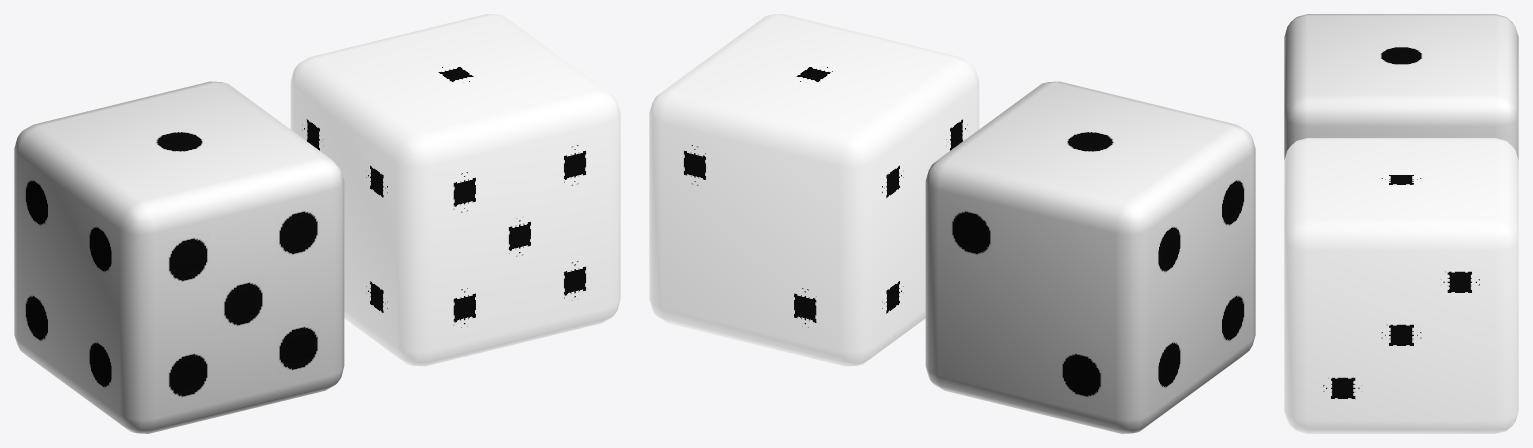
File: dice.glb
3 views of the same model, side by side, from view 1: azimuth 30°, elevation 25°; view 2: azimuth 150°, elevation 25°; view 3: azimuth 270°, elevation 25° (orthographic). The views are drawn at different scales.
Visible parts, largest first — view 1: Cube, Cube.001; view 2: Cube, Cube.001; view 3: Cube.001, Cube.
Boxes of the visible parts, left/top/right/bottom form: Cube: left=14, top=81, right=344, bottom=433; Cube.001: left=290, top=14, right=620, bottom=366; Cube: left=925, top=81, right=1255, bottom=433; Cube.001: left=649, top=14, right=979, bottom=366; Cube.001: left=1284, top=138, right=1518, bottom=433; Cube: left=1284, top=14, right=1518, bottom=159.
Size of the model in its own units: 4.5 by 2 by 2.
Materials: 2 (2 with a texture image).
